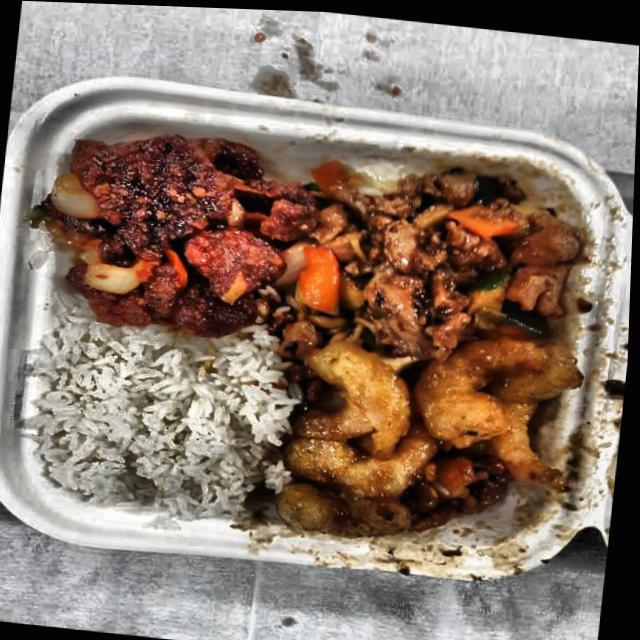Food: (264, 304, 591, 565), (285, 146, 614, 384), (34, 109, 325, 340), (26, 319, 287, 520)
